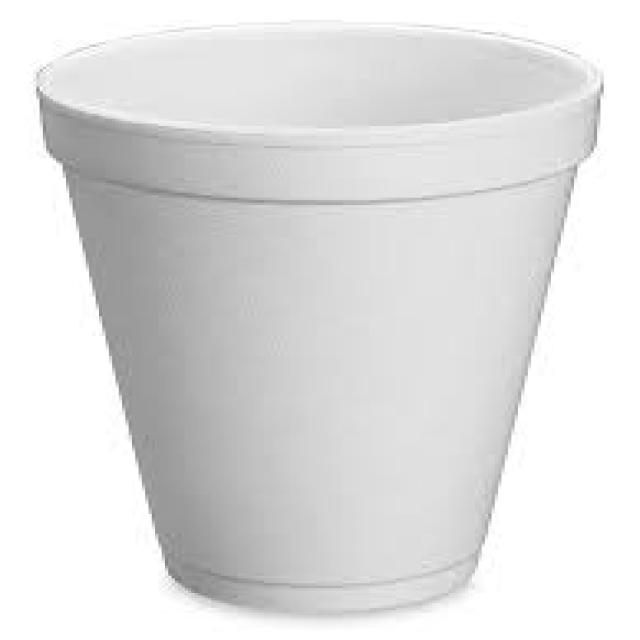styrofoam: (37, 24, 601, 612)
